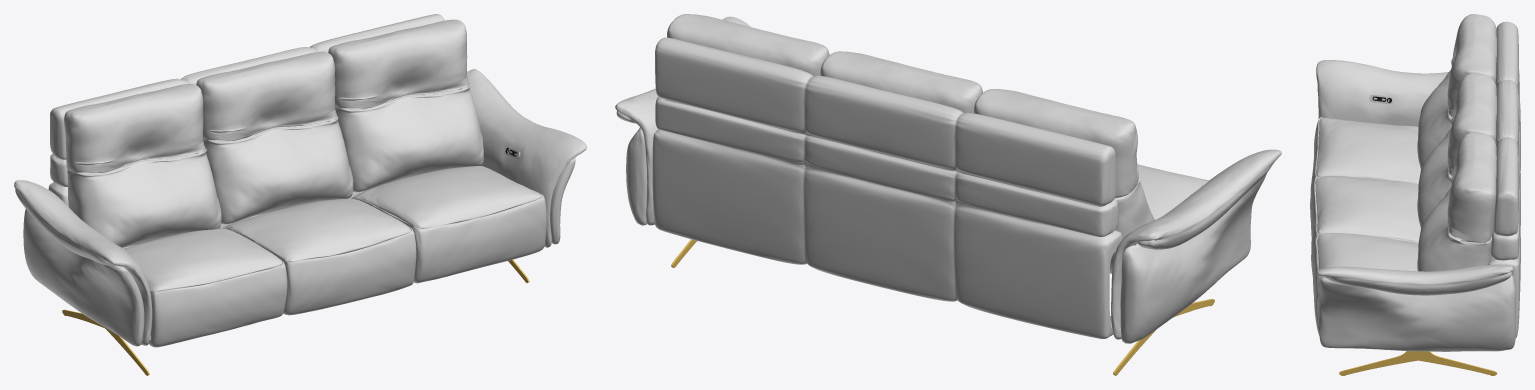
Rendered from SLN_Visby.glb.
3 views of the same model, side by side, from view 1: azimuth 30°, elevation 25°; view 2: azimuth 150°, elevation 25°; view 3: azimuth 270°, elevation 25° (orthographic). The views are drawn at different scales.
Parts seen in each view (by area): view 1: Visby; view 2: Visby; view 3: Visby.
Part boxes in pixels (left/top/right/bottom): Visby: left=14, top=14, right=586, bottom=375; Visby: left=615, top=14, right=1281, bottom=375; Visby: left=1310, top=14, right=1520, bottom=375.
Size of the model in its own units: 2.74 by 1.15 by 1.14.
